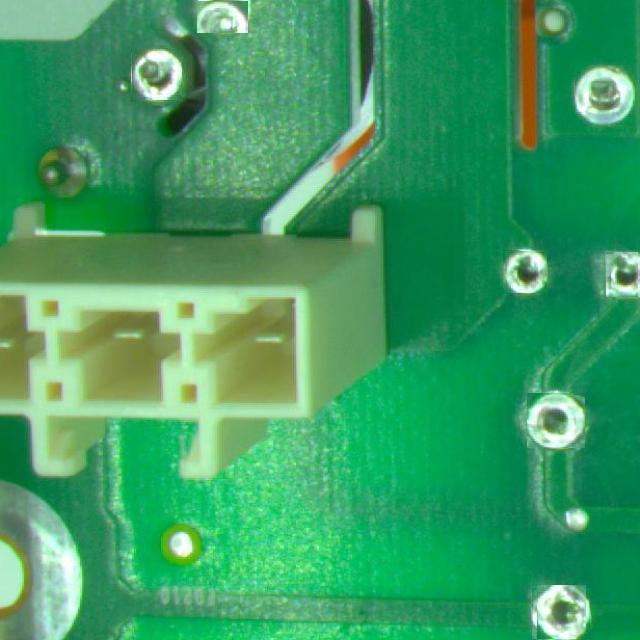oppostie_direction: (575, 67, 635, 125), (528, 392, 585, 448), (537, 585, 586, 640), (131, 50, 182, 99), (504, 250, 547, 293), (197, 0, 247, 33), (606, 252, 639, 297)
